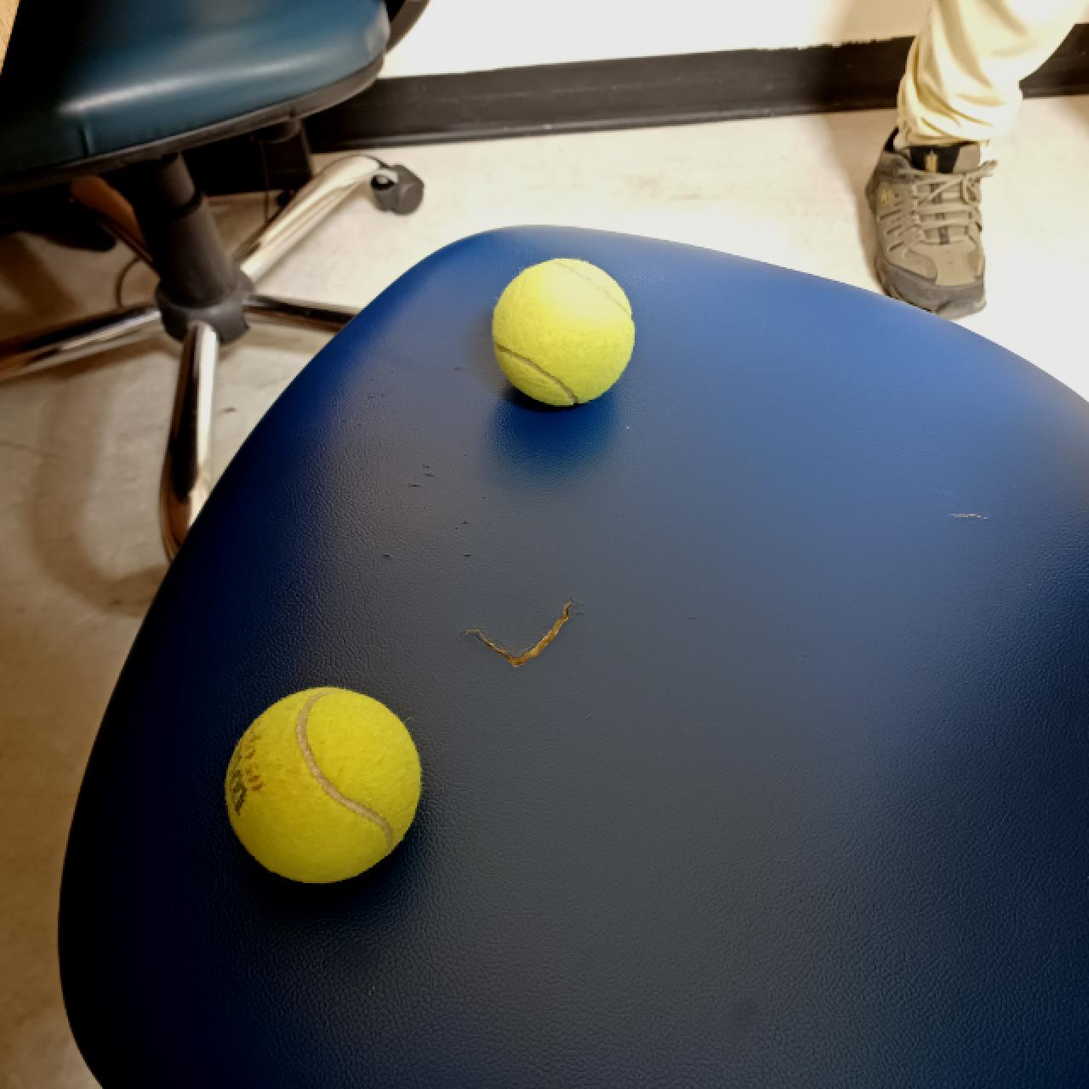tennis-ball: (224, 686, 425, 888), (492, 254, 637, 412)
